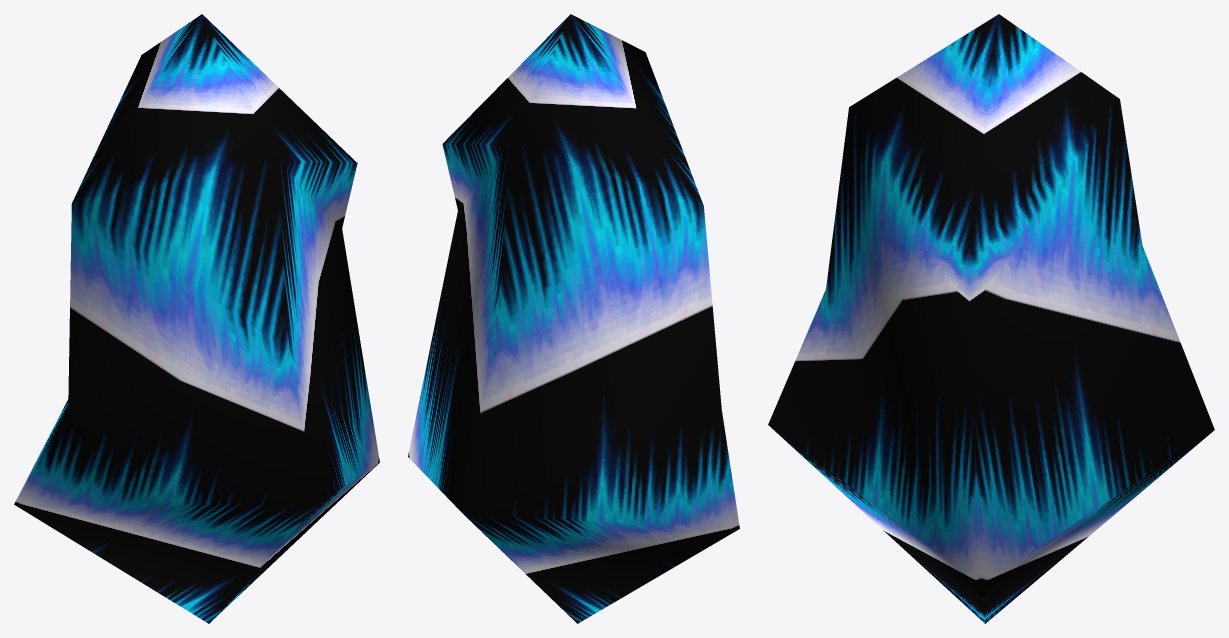
File: obj_sklmagwatcasting02.glb
The picture shows the model from 3 angles, left to right: view 1: azimuth 30°, elevation 25°; view 2: azimuth 150°, elevation 25°; view 3: azimuth 270°, elevation 25°; orthographic projection.
Visible parts, largest first — view 1: sfx_mesh_0; view 2: sfx_mesh_0; view 3: sfx_mesh_0.
Boxes of the visible parts, bbox=[...] form: sfx_mesh_0: bbox=[14, 14, 379, 623]; sfx_mesh_0: bbox=[408, 14, 739, 623]; sfx_mesh_0: bbox=[768, 14, 1214, 623].
Bounding box in the file's own units: 6.02 × 10.06 × 6.68.
1 material, 1 textured.
